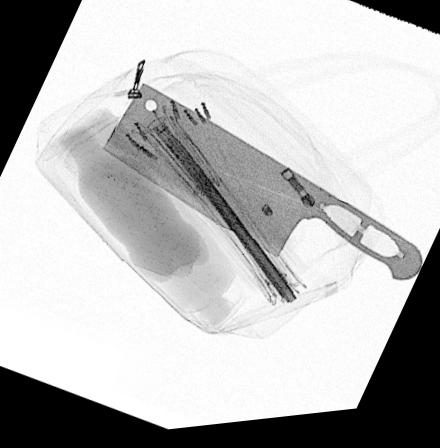Knife: (98, 83, 426, 289)
